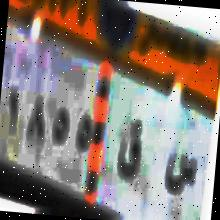1: (3, 83, 21, 140)
5: (50, 99, 71, 154), (73, 110, 93, 162)
8: (23, 94, 48, 156)
qaaf: (116, 117, 145, 186)
seen: (162, 141, 199, 205)
